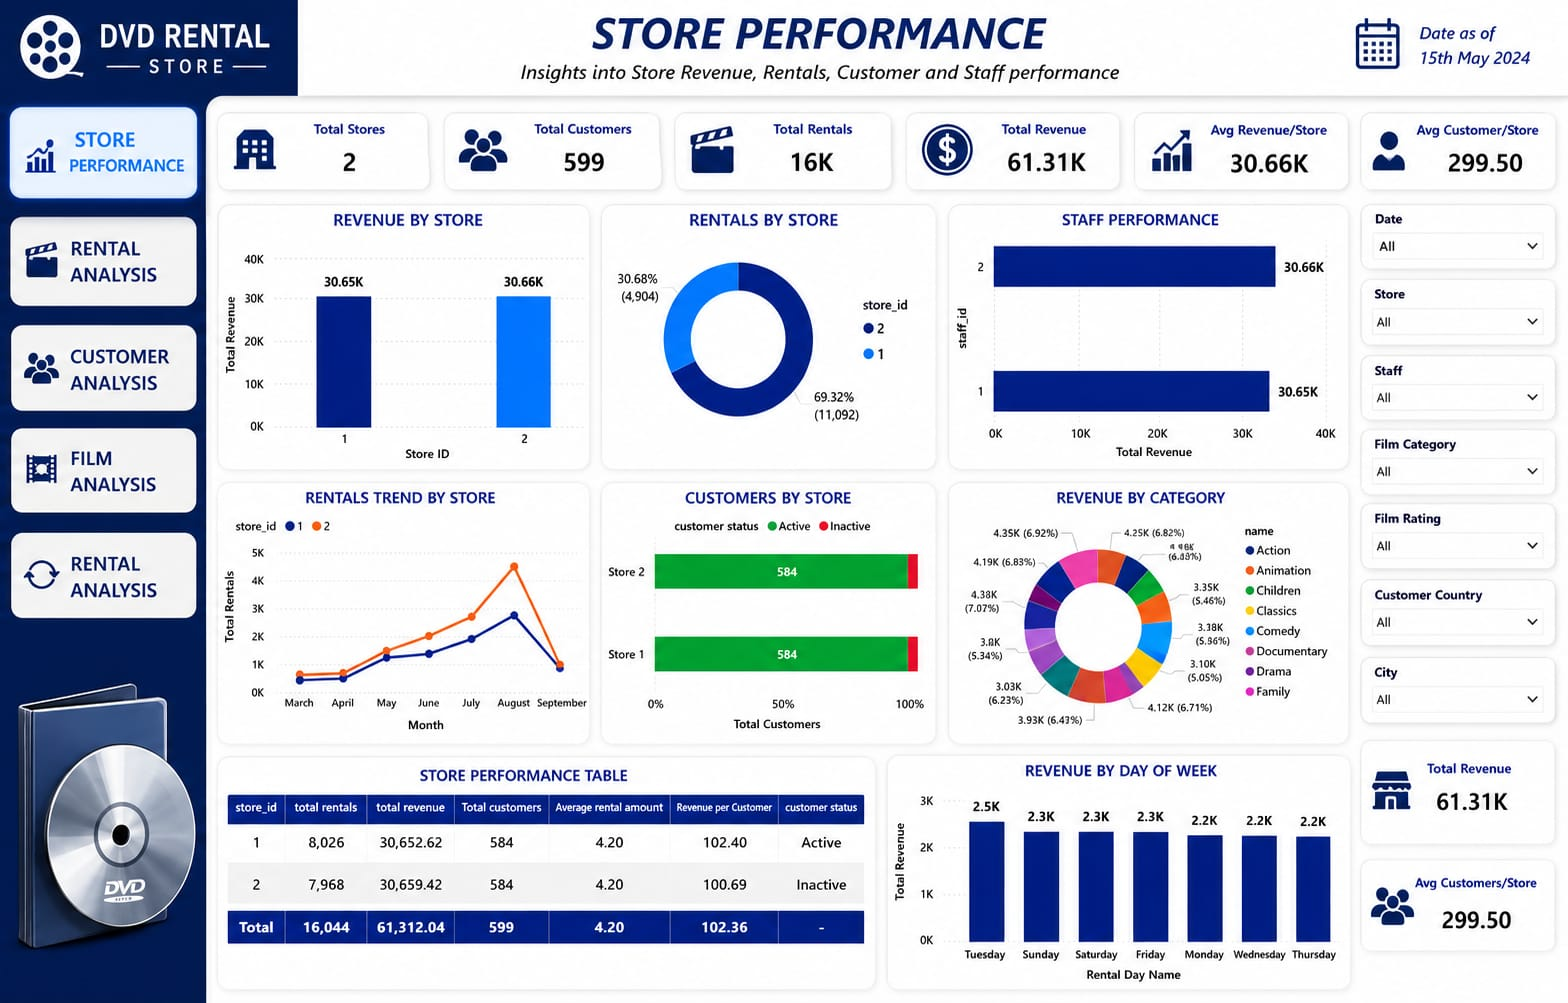

This screenshot's page, from the dashboard's own definition file:
{"tool":"powerbi","page":{"name":"Page 1","canvas":[1800,1200],"ordinal":0},"visuals":[{"type":"textbox","box":[0,0,1800,100],"z":0},{"type":"slicer","fields":{"Values":["public rental.last_update"]},"box":[1532,252,268,70],"z":0,"group":"g1"},{"type":"actionButton","box":[0,256.2,240,136.8],"z":0,"group":"g2"},{"type":"cardVisual","title":"Total Stores","fields":{"Data":["public store.total stores"]},"box":[258,124,240,110],"z":1000,"group":"g3"},{"type":"group","id":"g1","title":"Group 1","box":[1532,252,268,614],"z":1000},{"type":"slicer","fields":{"Values":["public staff.store_id"]},"box":[1532,332,268,70],"z":1000,"group":"g1"},{"type":"actionButton","box":[0,392.9,240,136.8],"z":1000,"group":"g2"},{"type":"image","box":[1500,0,150,100],"z":2000},{"type":"actionButton","title":"STORE PERFORMANCE","box":[0,120,240,136.8],"z":2000,"group":"g2"},{"type":"cardVisual","title":"Total Customers","fields":{"Data":["public customer.Total customers"]},"box":[512,124,240,110],"z":2000,"group":"g3"},{"type":"slicer","fields":{"Values":["public staff.staff_id"]},"box":[1532,418,268,80],"z":2000,"group":"g1"},{"type":"group","id":"g2","title":"Group 2","box":[0,120,240,705],"z":3000},{"type":"cardVisual","title":"Total Rentals","fields":{"Data":["public rental.total rentals"]},"box":[768,124,238,110],"z":3000,"group":"g3"},{"type":"slicer","fields":{"Values":["public film_category.category_id"]},"box":[1532,512,268,80],"z":3000,"group":"g1"},{"type":"actionButton","box":[0,539,240,136.8],"z":3000,"group":"g2"},{"type":"image","box":[0,0,322.5,100],"z":4000},{"type":"cardVisual","title":"Total Revenue","fields":{"Data":["public payment.total revenue"]},"box":[1022,124,240,110],"z":4000,"group":"g3"},{"type":"slicer","fields":{"Values":["public film.rating"]},"box":[1532,600,268,80],"z":4000,"group":"g1"},{"type":"actionButton","box":[0,688.2,240,136.8],"z":4000,"group":"g2"},{"type":"group","id":"g3","title":"Group 3","box":[257.5,124,1515,1056],"z":5000},{"type":"cardVisual","title":"Avg Revenue/Store","fields":{"Data":["public payment.Average revenue per store"]},"box":[1276,124,240,110],"z":5000,"group":"g3"},{"type":"slicer","fields":{"Values":["public country.country"]},"box":[1532,698,268,80],"z":5000,"group":"g1"},{"type":"cardVisual","title":"Avg Customer/Store","fields":{"Data":["public customer.Average customers per store"]},"box":[1532,126,240,110],"z":6000,"group":"g3"},{"type":"slicer","fields":{"Values":["public city.city"]},"box":[1532,786,266,80],"z":6000,"group":"g1"},{"type":"image","box":[0,825,240,375],"z":6000},{"type":"columnChart","title":"REVENUE BY STORE","fields":{"Y":["public payment.total revenue"],"Category":["public staff.store_id"]},"box":[258,252,400,300],"z":7000,"group":"g3"},{"type":"donutChart","title":"RENTALS BY STORE","fields":{"Y":["public payment.total revenue"],"Category":["public inventory.store_id"]},"box":[674,252,400,300],"z":8000,"group":"g3"},{"type":"barChart","title":"STAFF PERFORMANCE","fields":{"Y":["public payment.total revenue"],"Category":["public staff.staff_id"]},"box":[1100,252,400,300],"z":9000,"group":"g3"},{"type":"lineChart","title":"RENTALS TREND BY STORE","fields":{"Series":["public inventory.store_id"],"Y":["public rental.total rentals"],"Category":["public rental.return_date.Variation.Date Hierarchy.Month"]},"box":[258,566,400,300],"z":10000,"group":"g3"},{"type":"hundredPercentStackedBarChart","title":"CUSTOMERS BY STORE","fields":{"Category":["public inventory.store_id"],"Series":["public customer.customer status"],"Y":["public customer.Total customers"]},"box":[688,566,400,300],"z":11000,"group":"g3"},{"type":"donutChart","title":"REVENUE BY CATEGORY","fields":{"Y":["public store.total stores","public payment.total revenue"],"Category":["public category.name"]},"box":[1116,566,400,300],"z":12000,"group":"g3"},{"type":"tableEx","title":"Store Performance Table","fields":{"Values":["public store.store_id","public rental.total rentals","public payment.total revenue","public customer.Total customers","public payment.Average rental amount","public customer.Revenue per Customer","public customer.customer status"]},"box":[257.5,885,800,295],"z":13000,"group":"g3"},{"type":"clusteredColumnChart","title":"REVENUE BY DAY OF WEEK","fields":{"Y":["public rental.total rentals"],"Category":["public rental.Rental Day Name"]},"box":[1087.5,885,685,295],"z":14000,"group":"g3"}]}

Visuals, with their boxes on the page's 1800x1200 design canvas (x1, y1, x2, y2). These are canvas units, not pixel positions in the 1568x1003 screenshot, which may show the page scaled, cropped or inside an application window:
textbox: [0,0,1800,100]
slicer - public rental.last_update: [1532,252,1800,322]
actionButton: [0,256,240,393]
"Total Stores" cardVisual: [258,124,498,234]
"Group 1" group: [1532,252,1800,866]
slicer - public staff.store_id: [1532,332,1800,402]
actionButton: [0,393,240,530]
image: [1500,0,1650,100]
"STORE PERFORMANCE" actionButton: [0,120,240,257]
"Total Customers" cardVisual: [512,124,752,234]
slicer - public staff.staff_id: [1532,418,1800,498]
"Group 2" group: [0,120,240,825]
"Total Rentals" cardVisual: [768,124,1006,234]
slicer - public film_category.category_id: [1532,512,1800,592]
actionButton: [0,539,240,676]
image: [0,0,322,100]
"Total Revenue" cardVisual: [1022,124,1262,234]
slicer - public film.rating: [1532,600,1800,680]
actionButton: [0,688,240,825]
"Group 3" group: [258,124,1772,1180]
"Avg Revenue/Store" cardVisual: [1276,124,1516,234]
slicer - public country.country: [1532,698,1800,778]
"Avg Customer/Store" cardVisual: [1532,126,1772,236]
slicer - public city.city: [1532,786,1798,866]
image: [0,825,240,1200]
"REVENUE BY STORE" columnChart: [258,252,658,552]
"RENTALS BY STORE" donutChart: [674,252,1074,552]
"STAFF PERFORMANCE" barChart: [1100,252,1500,552]
"RENTALS TREND BY STORE" lineChart: [258,566,658,866]
"CUSTOMERS BY STORE" hundredPercentStackedBarChart: [688,566,1088,866]
"REVENUE BY CATEGORY" donutChart: [1116,566,1516,866]
"Store Performance Table" tableEx: [258,885,1058,1180]
"REVENUE BY DAY OF WEEK" clusteredColumnChart: [1088,885,1772,1180]
